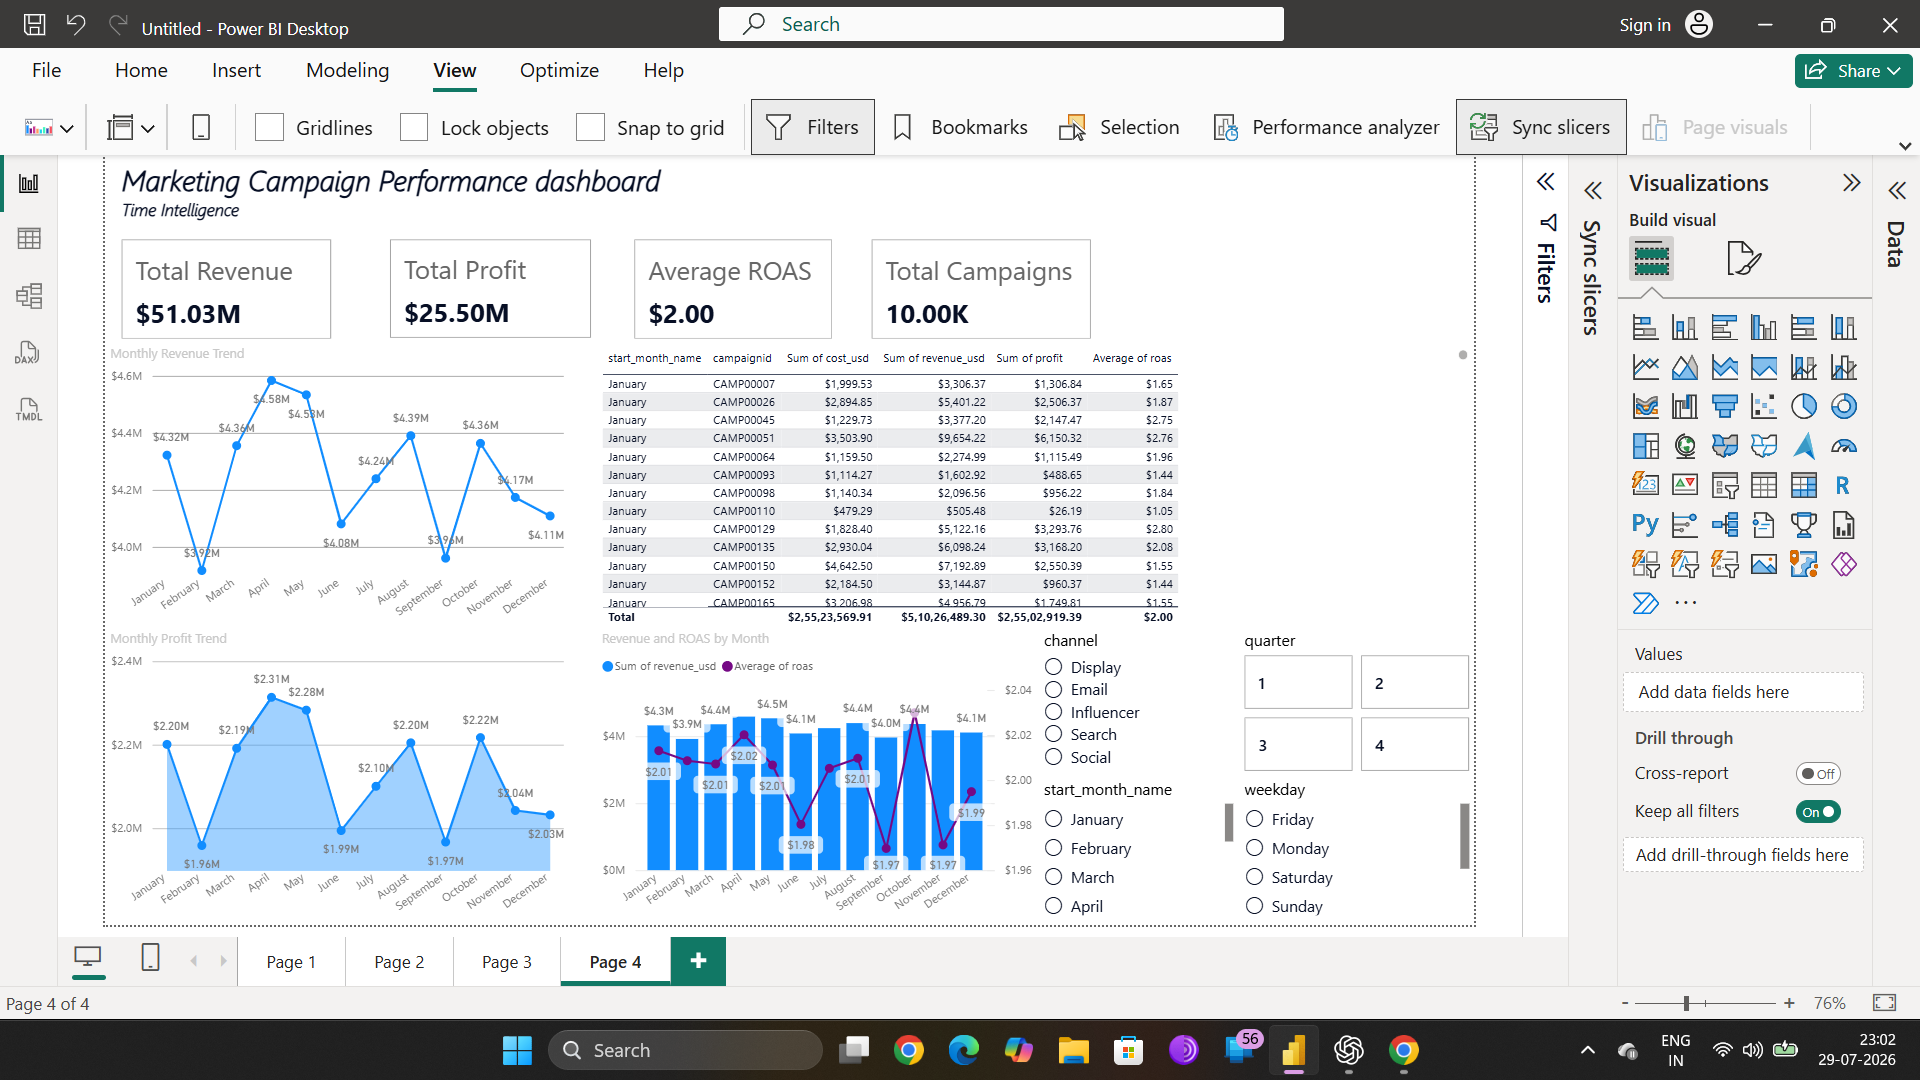

The dashboard page shown, as its layout file describes it:
{"tool":"powerbi","page":{"name":"Page 4","canvas":[1280,720],"ordinal":3},"visuals":[{"type":"textbox","box":[10,0,1270,74.3],"z":0},{"type":"cardVisual","fields":{"Data":["Sum(marketing_campaign_engineered.profit)"]},"box":[261.4,74.3,198.6,102.9],"z":1000},{"type":"cardVisual","fields":{"Data":["Avg(marketing_campaign_engineered.roas)"]},"box":[490,74,195.5,103],"z":2000},{"type":"cardVisual","fields":{"Data":["CountNonNull(marketing_campaign_engineered.campaignid)"]},"box":[711.9,74,215.3,103],"z":3000},{"type":"cardVisual","fields":{"Data":["Sum(marketing_campaign_engineered.revenue_usd)"]},"box":[10.6,74,206,103],"z":4000},{"type":"lineChart","title":"Monthly Revenue Trend","fields":{"Category":["marketing_campaign_engineered.start_month_name"],"Y":["Sum(marketing_campaign_engineered.revenue_usd)"]},"box":[0,177.1,434.3,267.1],"z":5000},{"type":"areaChart","title":"Monthly Profit Trend","fields":{"Category":["marketing_campaign_engineered.start_month_name"],"Y":["Sum(marketing_campaign_engineered.profit)"]},"box":[0,444.3,434.3,275.7],"z":6000},{"type":"lineClusteredColumnComboChart","title":"Revenue and ROAS by Month","fields":{"Category":["marketing_campaign_engineered.start_month_name"],"Y2":["Avg(marketing_campaign_engineered.roas)"],"Y":["Sum(marketing_campaign_engineered.revenue_usd)"]},"box":[460,444.3,412.9,275.7],"z":7000},{"type":"tableEx","fields":{"Values":["marketing_campaign_engineered.start_month_name","marketing_campaign_engineered.campaignid","Sum(marketing_campaign_engineered.cost_usd)","Sum(marketing_campaign_engineered.revenue_usd)","Sum(marketing_campaign_engineered.profit)","Avg(marketing_campaign_engineered.roas)"]},"box":[460,177.1,820,267.1],"z":8000},{"type":"listSlicer","fields":{"Values":["marketing_campaign_engineered.channel"]},"box":[872.9,444.3,187.1,138.6],"z":10000},{"type":"listSlicer","fields":{"Values":["marketing_campaign_engineered.start_month_name"]},"box":[872.9,582.9,187.1,137.1],"z":11000},{"type":"advancedSlicerVisual","fields":{"Values":["marketing_campaign_engineered.quarter"]},"box":[1060,444.3,220,138.6],"z":12000},{"type":"listSlicer","fields":{"Values":["marketing_campaign_engineered.weekday"]},"box":[1060,582.9,220,137.1],"z":13000}]}

Visuals, with their boxes on the page's 1280x720 design canvas (x1, y1, x2, y2). These are canvas units, not pixel positions in the 1920x1080 screenshot, which may show the page scaled, cropped or inside an application window:
textbox: {"left": 10, "top": 0, "right": 1280, "bottom": 74}
cardVisual - Sum(marketing_campaign_engineered.profit): {"left": 261, "top": 74, "right": 460, "bottom": 177}
cardVisual - Avg(marketing_campaign_engineered.roas): {"left": 490, "top": 74, "right": 686, "bottom": 177}
cardVisual - CountNonNull(marketing_campaign_engineered.campaignid): {"left": 712, "top": 74, "right": 927, "bottom": 177}
cardVisual - Sum(marketing_campaign_engineered.revenue_usd): {"left": 11, "top": 74, "right": 217, "bottom": 177}
"Monthly Revenue Trend" lineChart: {"left": 0, "top": 177, "right": 434, "bottom": 444}
"Monthly Profit Trend" areaChart: {"left": 0, "top": 444, "right": 434, "bottom": 720}
"Revenue and ROAS by Month" lineClusteredColumnComboChart: {"left": 460, "top": 444, "right": 873, "bottom": 720}
tableEx - marketing_campaign_engineered.start_month_name x marketing_campaign_engineered.campaignid: {"left": 460, "top": 177, "right": 1280, "bottom": 444}
listSlicer - marketing_campaign_engineered.channel: {"left": 873, "top": 444, "right": 1060, "bottom": 583}
listSlicer - marketing_campaign_engineered.start_month_name: {"left": 873, "top": 583, "right": 1060, "bottom": 720}
advancedSlicerVisual - marketing_campaign_engineered.quarter: {"left": 1060, "top": 444, "right": 1280, "bottom": 583}
listSlicer - marketing_campaign_engineered.weekday: {"left": 1060, "top": 583, "right": 1280, "bottom": 720}
